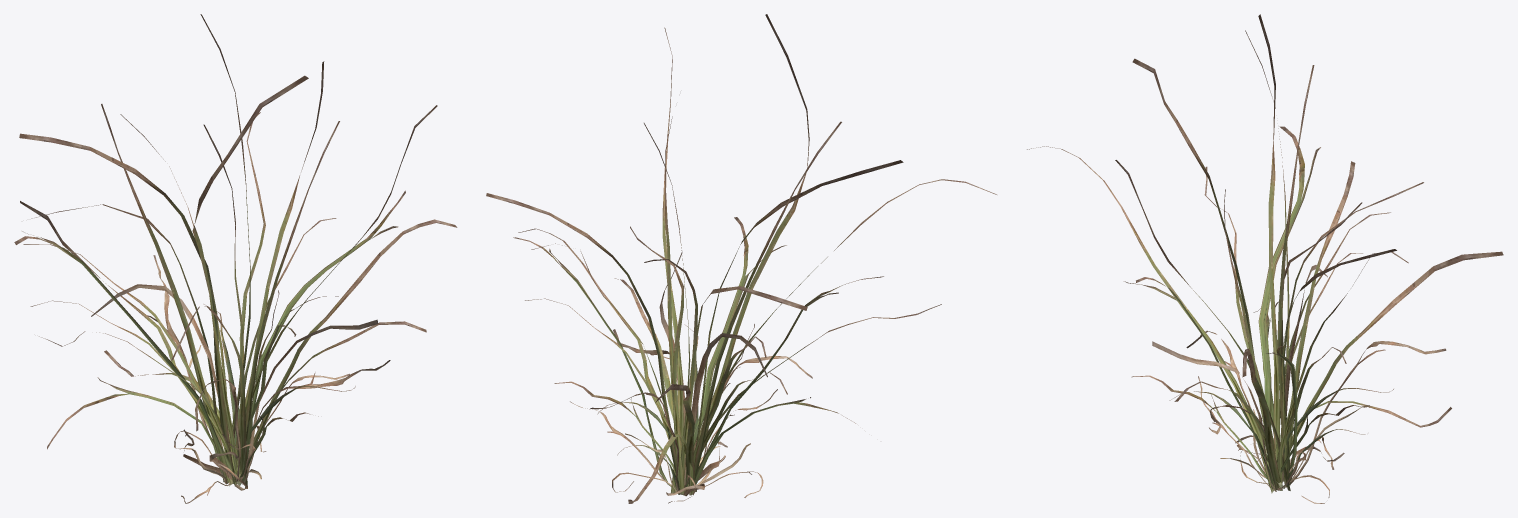
Rendered from grassclump.glb.
3 views of the same model, side by side, from view 1: azimuth 30°, elevation 25°; view 2: azimuth 150°, elevation 25°; view 3: azimuth 270°, elevation 25° (orthographic). The views are drawn at different scales.
Visible parts, largest first — view 1: grass_clump; view 2: grass_clump; view 3: grass_clump.
Part boxes in pixels (left/top/right/bottom): grass_clump: left=14, top=14, right=457, bottom=503; grass_clump: left=486, top=14, right=996, bottom=503; grass_clump: left=1027, top=14, right=1503, bottom=503.
Size of the model in its own units: 1.28 by 1.3 by 1.32.
Materials: 1 (1 with a texture image).
